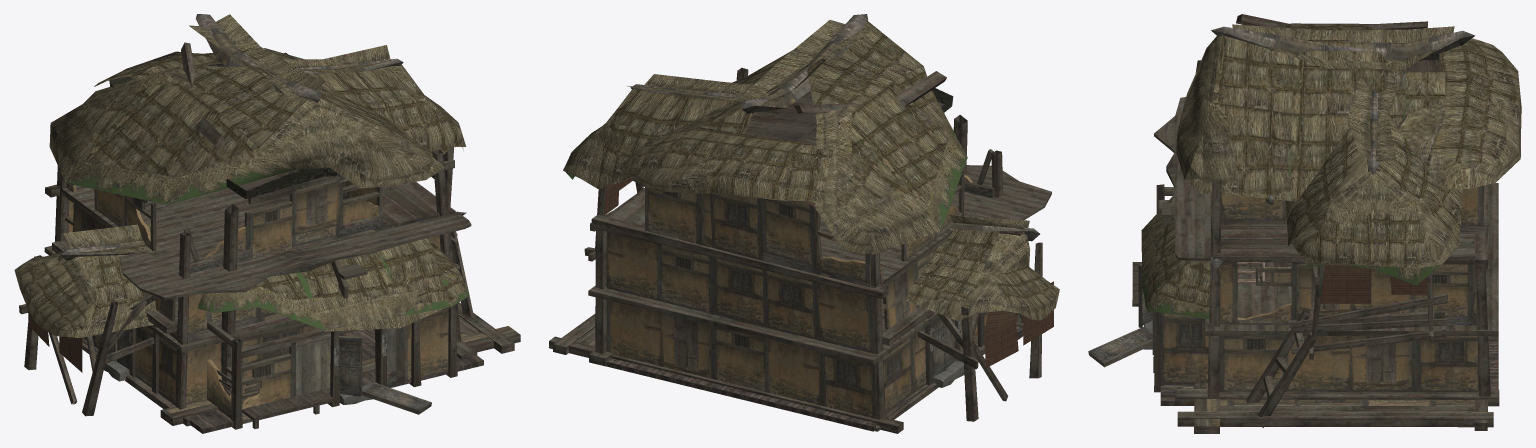
The model's file is Old home.fbx.
3 renders of one model, left to right at view 1: azimuth 30°, elevation 25°; view 2: azimuth 150°, elevation 25°; view 3: azimuth 270°, elevation 25°, orthographic. The views are drawn at different scales.
Visible parts, largest first — view 1: cadnav.002, cadnav.001, outer path, floor3, floor1, floor2; view 2: cadnav.001, cadnav.002, floor2, floor1, outer path, floor3; view 3: cadnav.002, cadnav.001, floor2, outer path, floor1.
Part boxes in pixels (<box>): cadnav.002: <box>14,14,468,420</box>; cadnav.001: <box>19,14,520,429</box>; outer path: <box>119,212,471,299</box>; floor3: <box>56,185,376,278</box>; floor1: <box>82,329,483,433</box>; floor2: <box>44,245,465,352</box>; cadnav.001: <box>549,14,1042,433</box>; cadnav.002: <box>563,20,1059,367</box>; floor2: <box>588,285,939,364</box>; floor1: <box>605,314,1020,431</box>; outer path: <box>966,165,1051,220</box>; floor3: <box>695,191,997,287</box>; cadnav.002: <box>1132,23,1521,318</box>; cadnav.001: <box>1088,14,1499,433</box>; floor2: <box>1205,183,1498,335</box>; outer path: <box>1154,97,1210,260</box>; floor1: <box>1160,336,1498,405</box>.
Bounding box in the file's own units: 1906 × 1276 × 1553.
